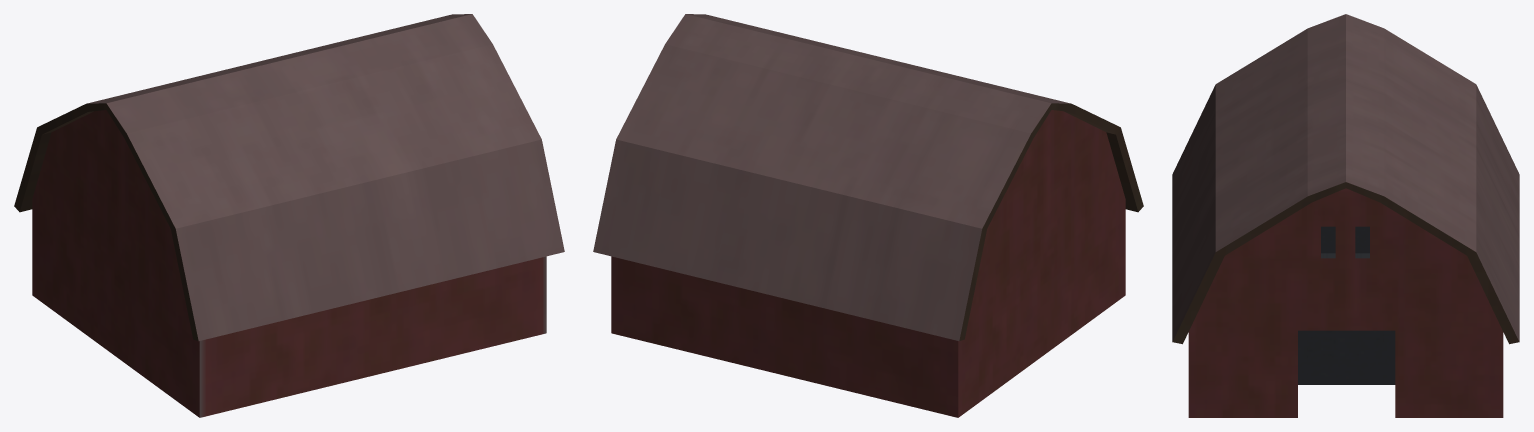
The model's file is Barn.fbx.
The picture shows the model from 3 angles, left to right: view 1: azimuth 30°, elevation 25°; view 2: azimuth 150°, elevation 25°; view 3: azimuth 270°, elevation 25°; orthographic projection. The views are drawn at different scales.
Parts seen in each view (by area): view 1: Barn; view 2: Barn; view 3: Barn.
Part boxes in pixels (<box>): Barn: <box>14,14,564,417</box>; Barn: <box>593,14,1143,417</box>; Barn: <box>1172,14,1519,417</box>.
Bounding box in the file's own units: 1929 × 1287 × 1684.
